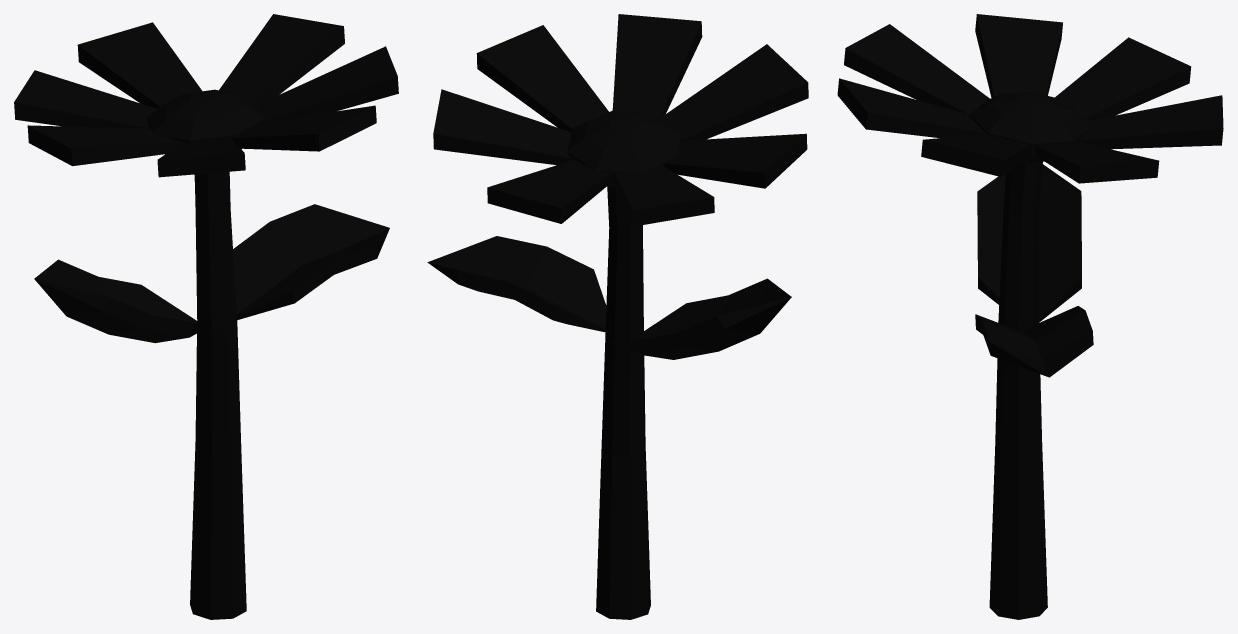
The model's file is Flower_2_Red.fbx.
3 renders of one model, left to right at view 1: azimuth 30°, elevation 25°; view 2: azimuth 150°, elevation 25°; view 3: azimuth 270°, elevation 25°, orthographic. The views are drawn at different scales.
Visible parts, largest first — view 1: Flower_2_Red; view 2: Flower_2_Red; view 3: Flower_2_Red.
Boxes of the visible parts, x1=… form: Flower_2_Red: x1=14, y1=14, x2=398, y2=619; Flower_2_Red: x1=427, y1=14, x2=808, y2=619; Flower_2_Red: x1=837, y1=14, x2=1223, y2=619.
Bounding box in the file's own units: 0.0945 × 0.1327 × 0.0868.
